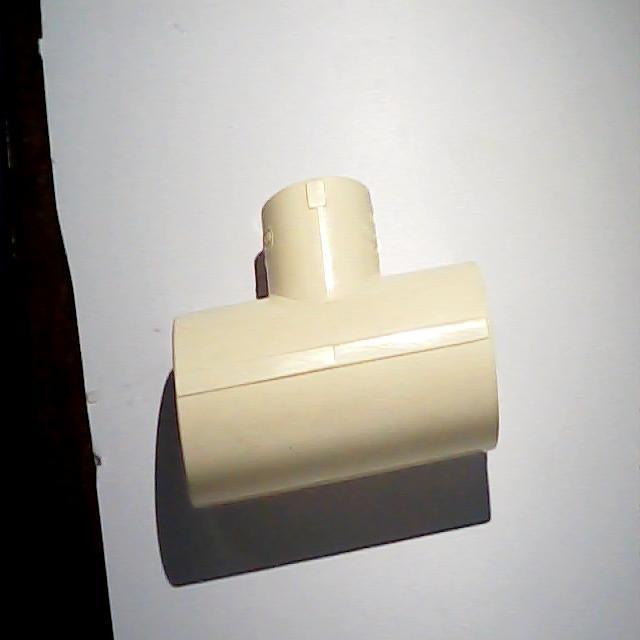T Joint: (172, 177, 499, 511)
